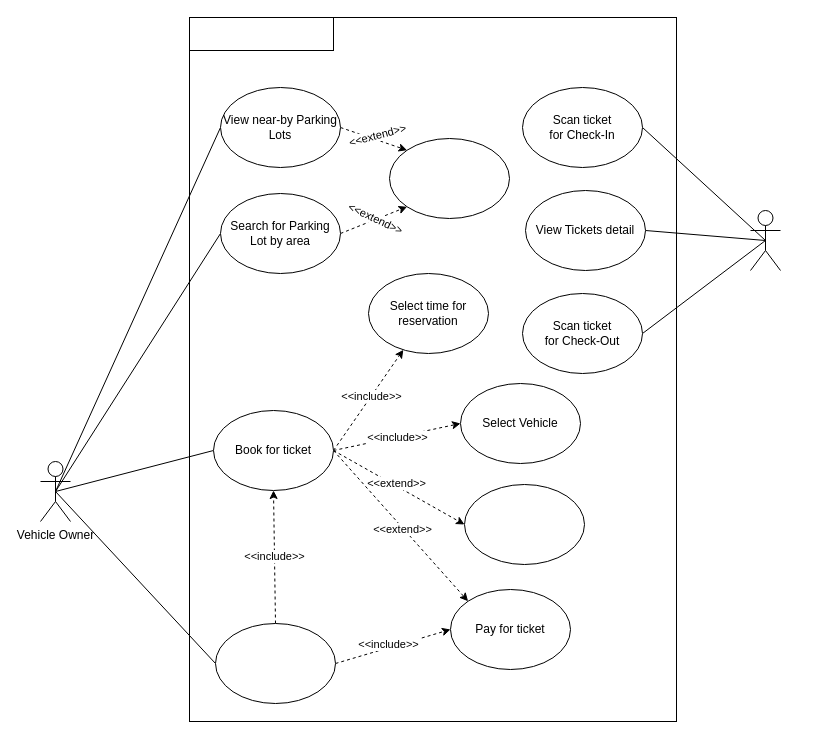
Image size: 832x739. Some labels were removed from this diagram. The shapes that lost their labels are listed below. From the top down, each one's centre as x and y in pixels, then its label:
(x=261, y=33): Park Nexus System
(x=449, y=178): View Parking Lot detail
(x=765, y=240): Parking Lot Owner
(x=524, y=524): Select additional Services
(x=275, y=663): Present ticket with QR codes
